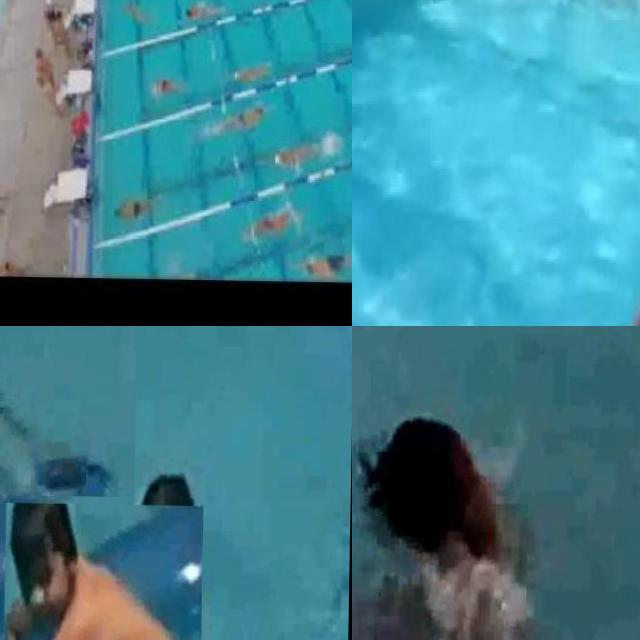drowning: (352, 391, 561, 640), (0, 326, 137, 499)
swimming: (1, 502, 203, 640), (272, 130, 336, 177), (248, 201, 298, 241), (231, 50, 275, 95), (208, 104, 268, 134), (112, 192, 152, 228), (305, 245, 352, 267), (152, 72, 182, 102), (193, 0, 226, 27), (128, 3, 146, 30)
